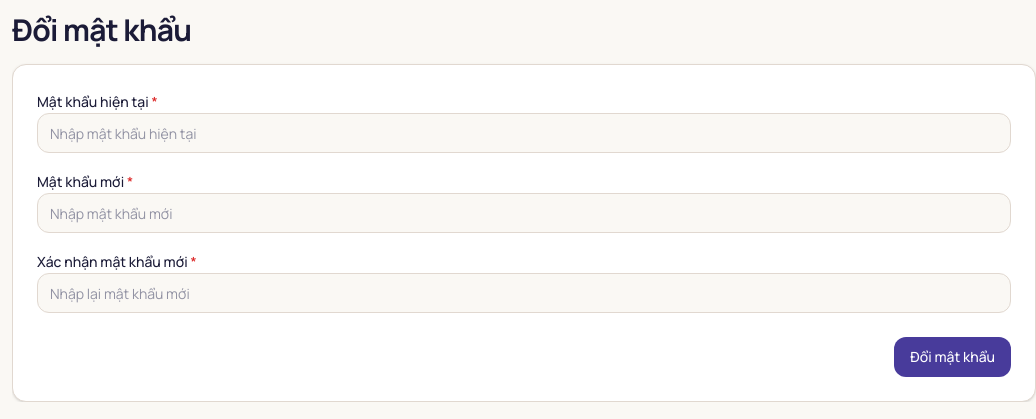
ChangePasswordPage › disables submit while the request is pending
In the password field labelled "Mật khẩu hiện tại *": (524, 133) [37,113,1011,153], type "Old@1234"
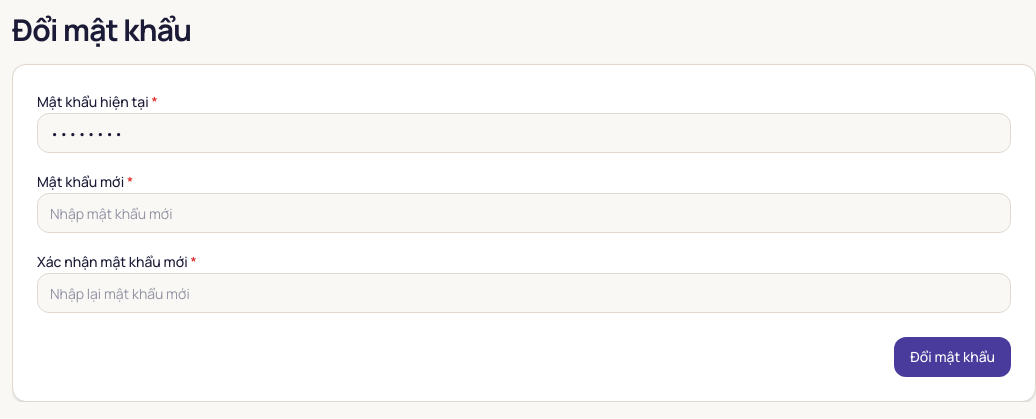
In the password field labelled "Mật khẩu mới *": (524, 213) [37,193,1011,233], type "New@1234"
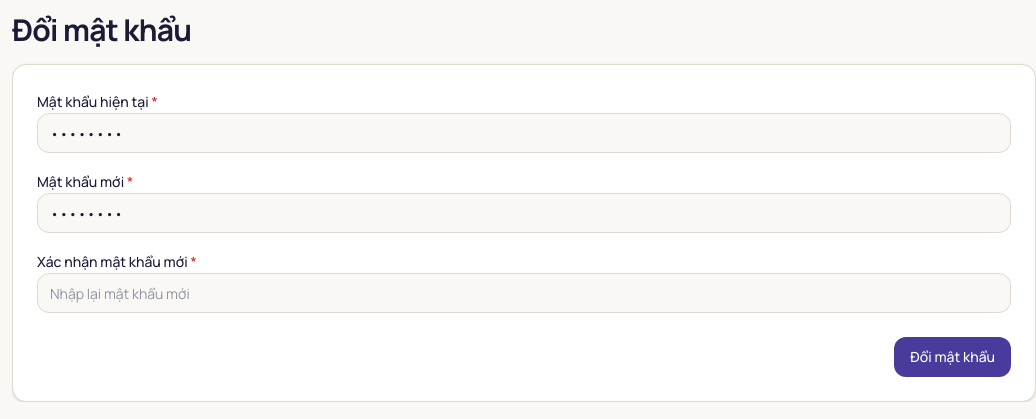
In the password field labelled "Xác nhận mật khẩu mới *": (524, 293) [37,273,1011,313], type "New@1234"
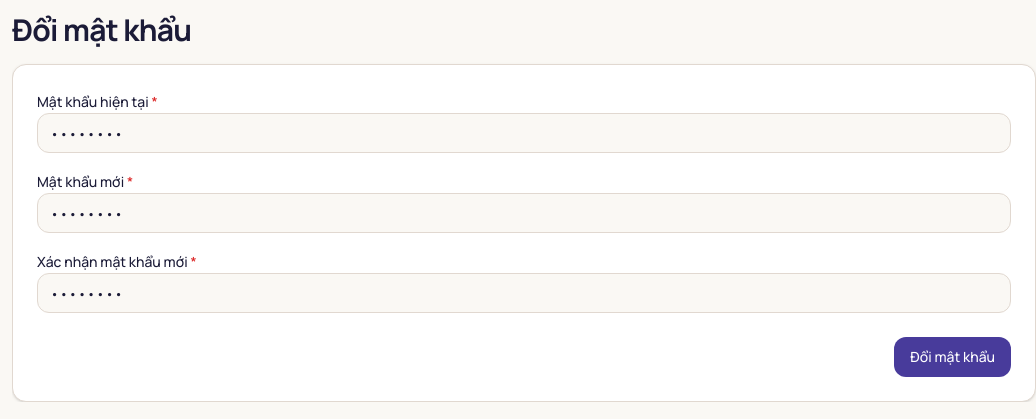
Click the button "Đổi mật khẩu": click(953, 357) [894,337,1011,377]
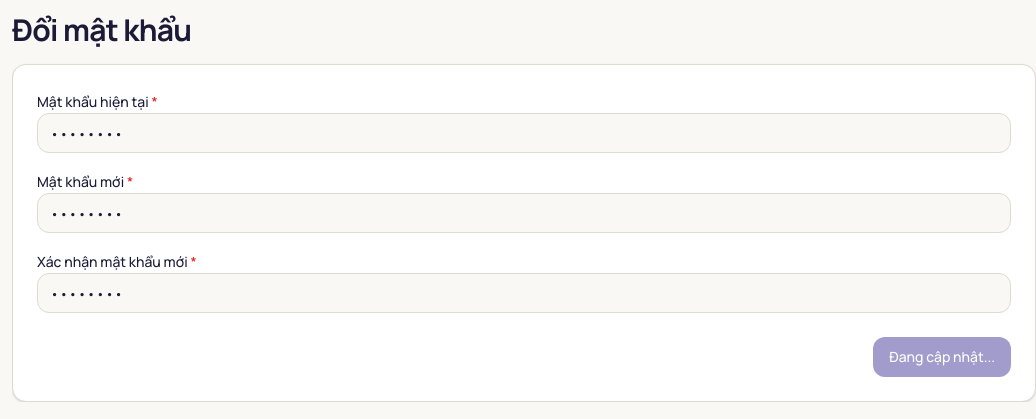
Check: the button "Đang cập nhật..." is disabled, box [873,337,1011,377]
